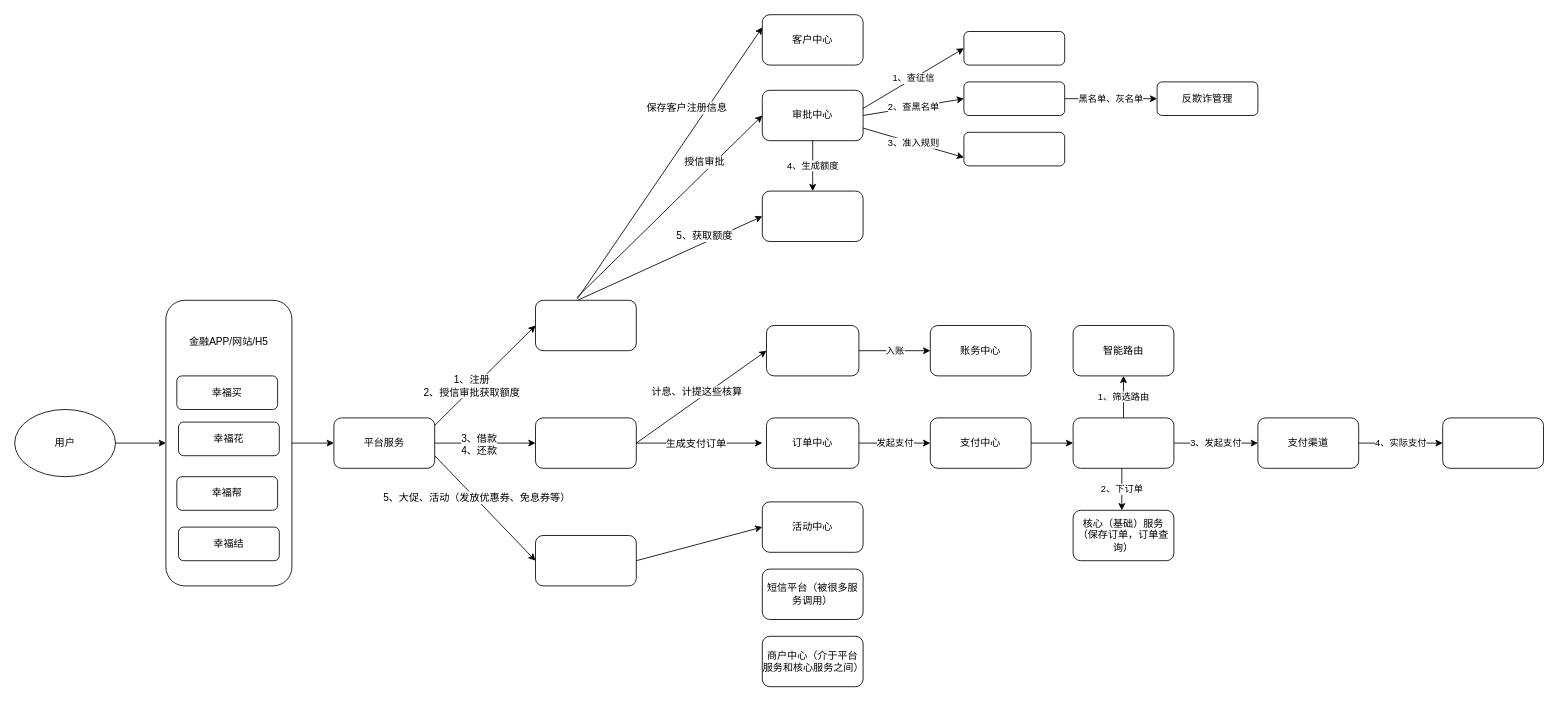
The diagram is 1558 pixels wide and 701 high, and some of its shapes have lost their labels. Here are the shapes that lost their labels. From the top down, the centre of each, then its label:
the point at 1014,48: 征信平台
the point at 1014,98: 名单管理
the point at 1014,148: 决策引擎
the point at 812,216: 额度中心
the point at 585,325: 风险服务
the point at 812,350: 核算中心
the point at 585,442: 核心服务
the point at 1123,442: 支付路由
the point at 1493,442: 三方支付渠道（微信、支付宝、快捷支付）
the point at 585,560: 运营服务
